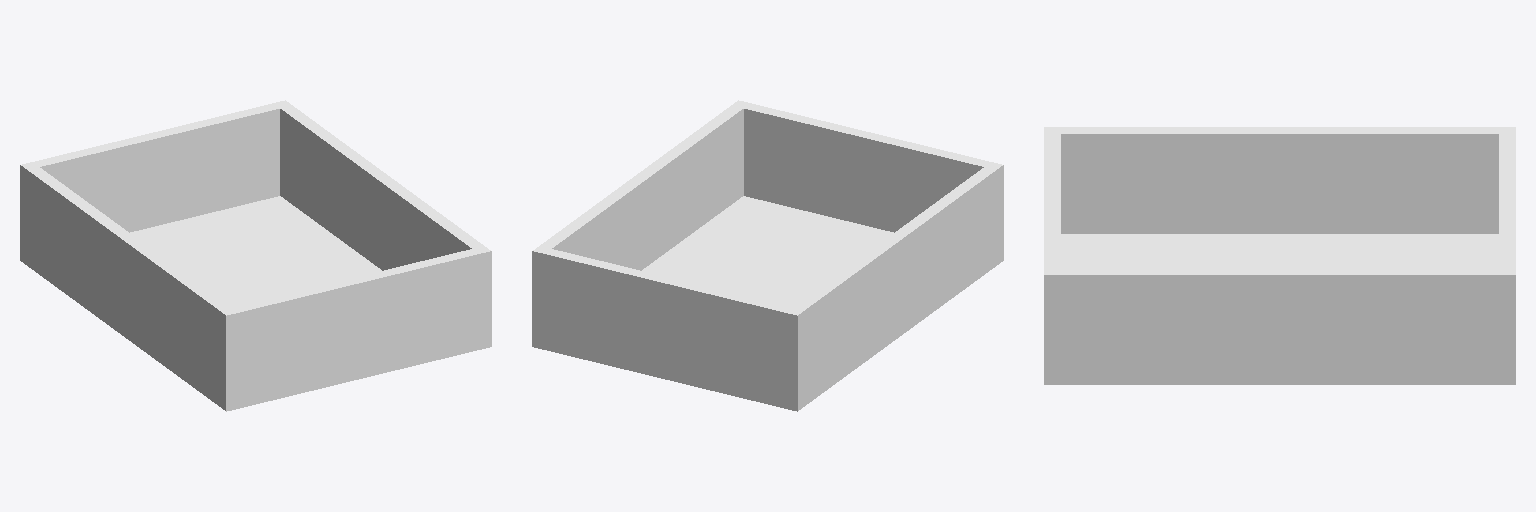
The robot description file, URDF, robot "table_basket":
<robot
  name="table_basket">
  <link
    name="table">
    <inertial>
      <origin
        xyz="0 -2.0817E-17 -0.22758"
        rpy="0 0 0" />
      <mass
        value="81.416" />
      <inertia
        ixx="17.674"
        ixy="-4.3368E-16"
        ixz="4.9467E-16"
        iyy="17.674"
        iyz="1.3081E-17"
        izz="19.456" />
    </inertial>
    <visual>
      <origin
        xyz="0 0 0"
        rpy="0 0 0" />
      <geometry>
        <mesh
          filename="package://table_basket/meshes/table.STL" />
      </geometry>
      <material
        name="">
        <color
          rgba="1 1 1 1" />
        <texture
          filename="package://table_basket/textures/table_color.jpg" />
      </material>
    </visual>
    <collision>
      <origin
        xyz="0 0 0"
        rpy="0 0 0" />
      <geometry>
        <mesh
          filename="package://table_basket/meshes/table.STL" />
      </geometry>
    </collision>
  </link>
  <link
    name="left_basket">
    <inertial>
      <origin
        xyz="-1.1102E-16 0 0.031586"
        rpy="0 0 0" />
      <mass
        value="1.8812" />
      <inertia
        ixx="0.029288"
        ixy="-2.2695E-18"
        ixz="-2.6278E-18"
        iyy="0.01841"
        iyz="2.5457E-20"
        izz="0.04459" />
    </inertial>
    <visual>
      <origin
        xyz="0 0 0"
        rpy="0 0 0" />
      <geometry>
        <mesh
          filename="package://table_basket/meshes/left_basket.STL" />
      </geometry>
      <material
        name="">
        <color
          rgba="1 1 1 1" />
        <texture
          filename="package://table_basket/textures/blue.jpg" />
      </material>
    </visual>
    <collision>
      <origin
        xyz="0 0 0"
        rpy="0 0 0" />
      <geometry>
        <mesh
          filename="package://table_basket/meshes/left_basket.STL" />
      </geometry>
    </collision>
  </link>
  <joint
    name="left_fix"
    type="fixed">
    <origin
      xyz="0.27 0.275 0"
      rpy="0 0 0" />
    <parent
      link="table" />
    <child
      link="left_basket" />
    <axis
      xyz="0 0 0" />
  </joint>
  <link
    name="right_basket">
    <inertial>
      <origin
        xyz="0 -5.5511E-17 0.031586"
        rpy="0 0 0" />
      <mass
        value="1.8812" />
      <inertia
        ixx="0.029288"
        ixy="1.3977E-18"
        ixz="-3.7403E-18"
        iyy="0.01841"
        iyz="-5.7134E-19"
        izz="0.04459" />
    </inertial>
    <visual>
      <origin
        xyz="0 0 0"
        rpy="0 0 0" />
      <geometry>
        <mesh
          filename="package://table_basket/meshes/right_basket.STL" />
      </geometry>
      <material
        name="">
        <color
          rgba="1 1 1 1" />
        <texture
          filename="package://table_basket/textures/green.jpg" />
      </material>
    </visual>
    <collision>
      <origin
        xyz="0 0 0"
        rpy="0 0 0" />
      <geometry>
        <mesh
          filename="package://table_basket/meshes/right_basket.STL" />
      </geometry>
    </collision>
  </link>
  <joint
    name="right_fix"
    type="fixed">
    <origin
      xyz="-0.27 0.275 0"
      rpy="0 0 0" />
    <parent
      link="table" />
    <child
      link="right_basket" />
    <axis
      xyz="0 0 0" />
  </joint>
</robot>

--- What the picture shows (computed from the rendered views, not written in the file) ---
The picture shows the robot from 3 angles, left to right: view 1: azimuth 30°, elevation 25°; view 2: azimuth 150°, elevation 25°; view 3: azimuth 270°, elevation 25°; orthographic projection.
Model table_basket with 3 links and 2 joints (2 fixed), rooted at table, posed every joint at zero.
Links seen in each view (by area): view 1: right_basket; view 2: right_basket; view 3: right_basket.
Boxes of the visible links, x1,y1,x2,y2 form: right_basket: (20,100,491,411); right_basket: (532,100,1003,411); right_basket: (1044,127,1515,384).
Size in the robot's own frame: 0.26 by 0.35 by 0.09 metres.
Meshes: 3 distinct files referenced, 1 mesh visuals loaded (1 binary STL); not drawn: 2 (reference not matched to a file when rendering).